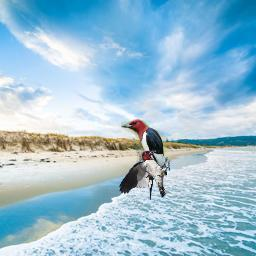Woodpecker: (121, 119, 167, 177), (119, 149, 170, 200)
